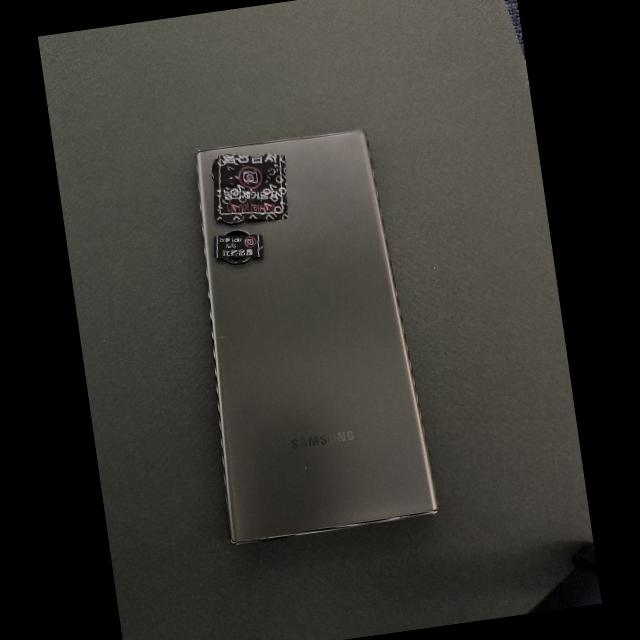lens: (228, 258, 250, 264), (211, 159, 216, 181)
phone: (196, 129, 439, 545)
sticker: (212, 154, 288, 221), (214, 234, 263, 259)
